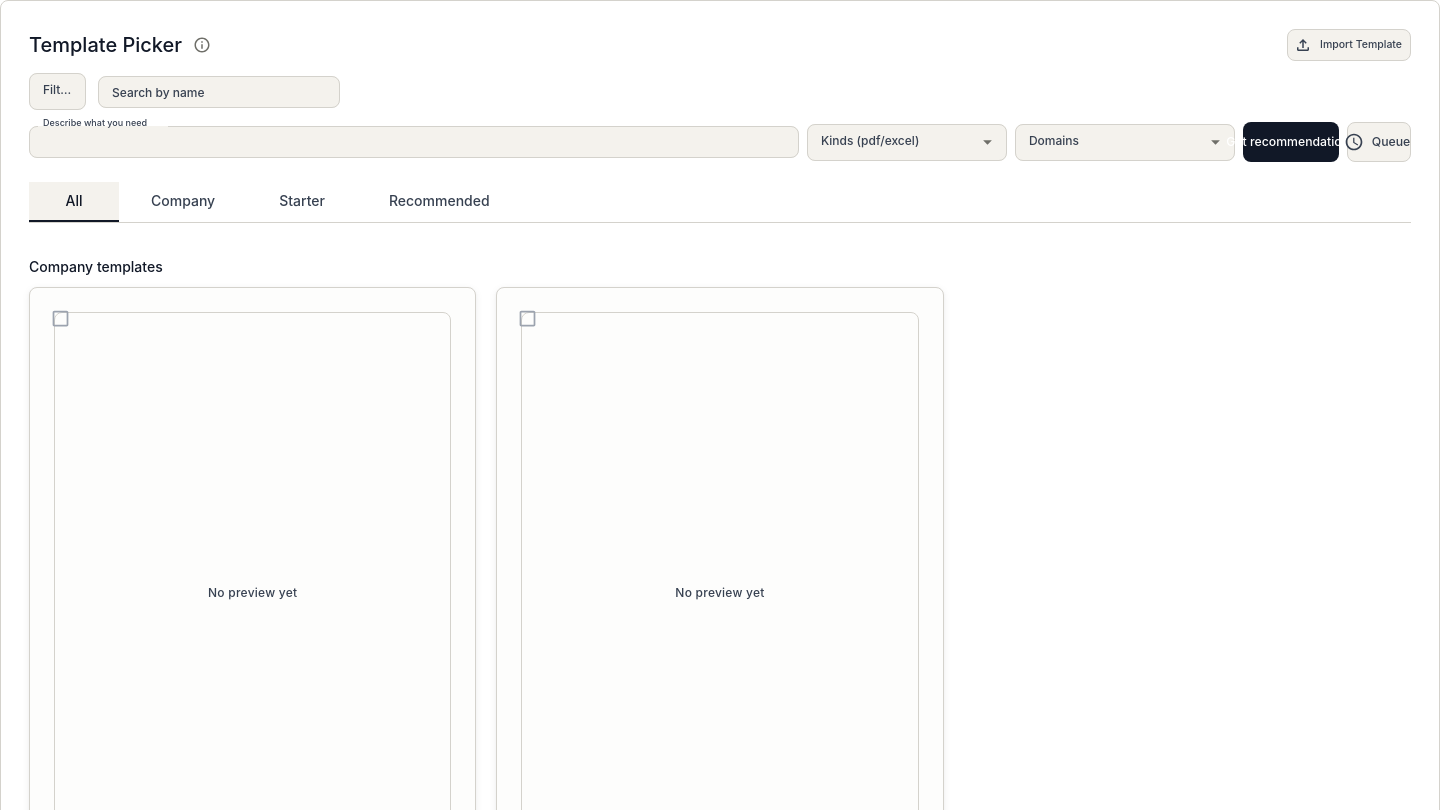
Test: TemplatePicker tabs › Starter tab shows empty state when no starter templates exist
Click the tab "Starter": (302, 202) x1=247 y1=182 x2=357 y2=222
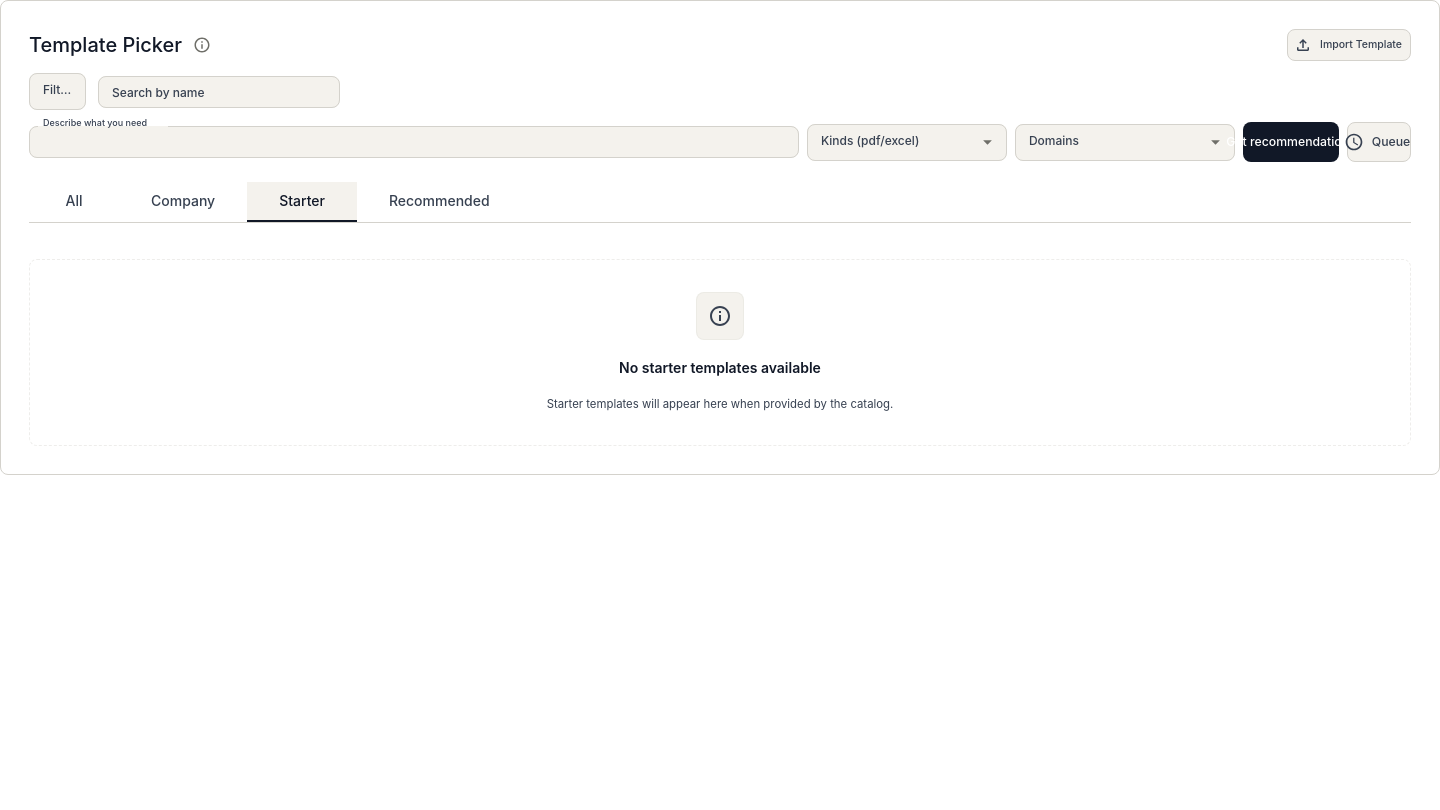
Expected: the text "No starter templates available" is shown, x1=619 y1=356 x2=821 y2=380
